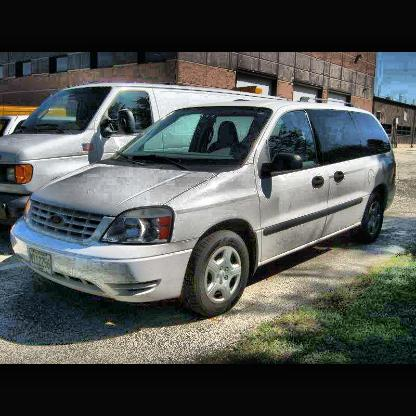Ford Freestar Minivan 2007: (12, 98, 397, 316)
